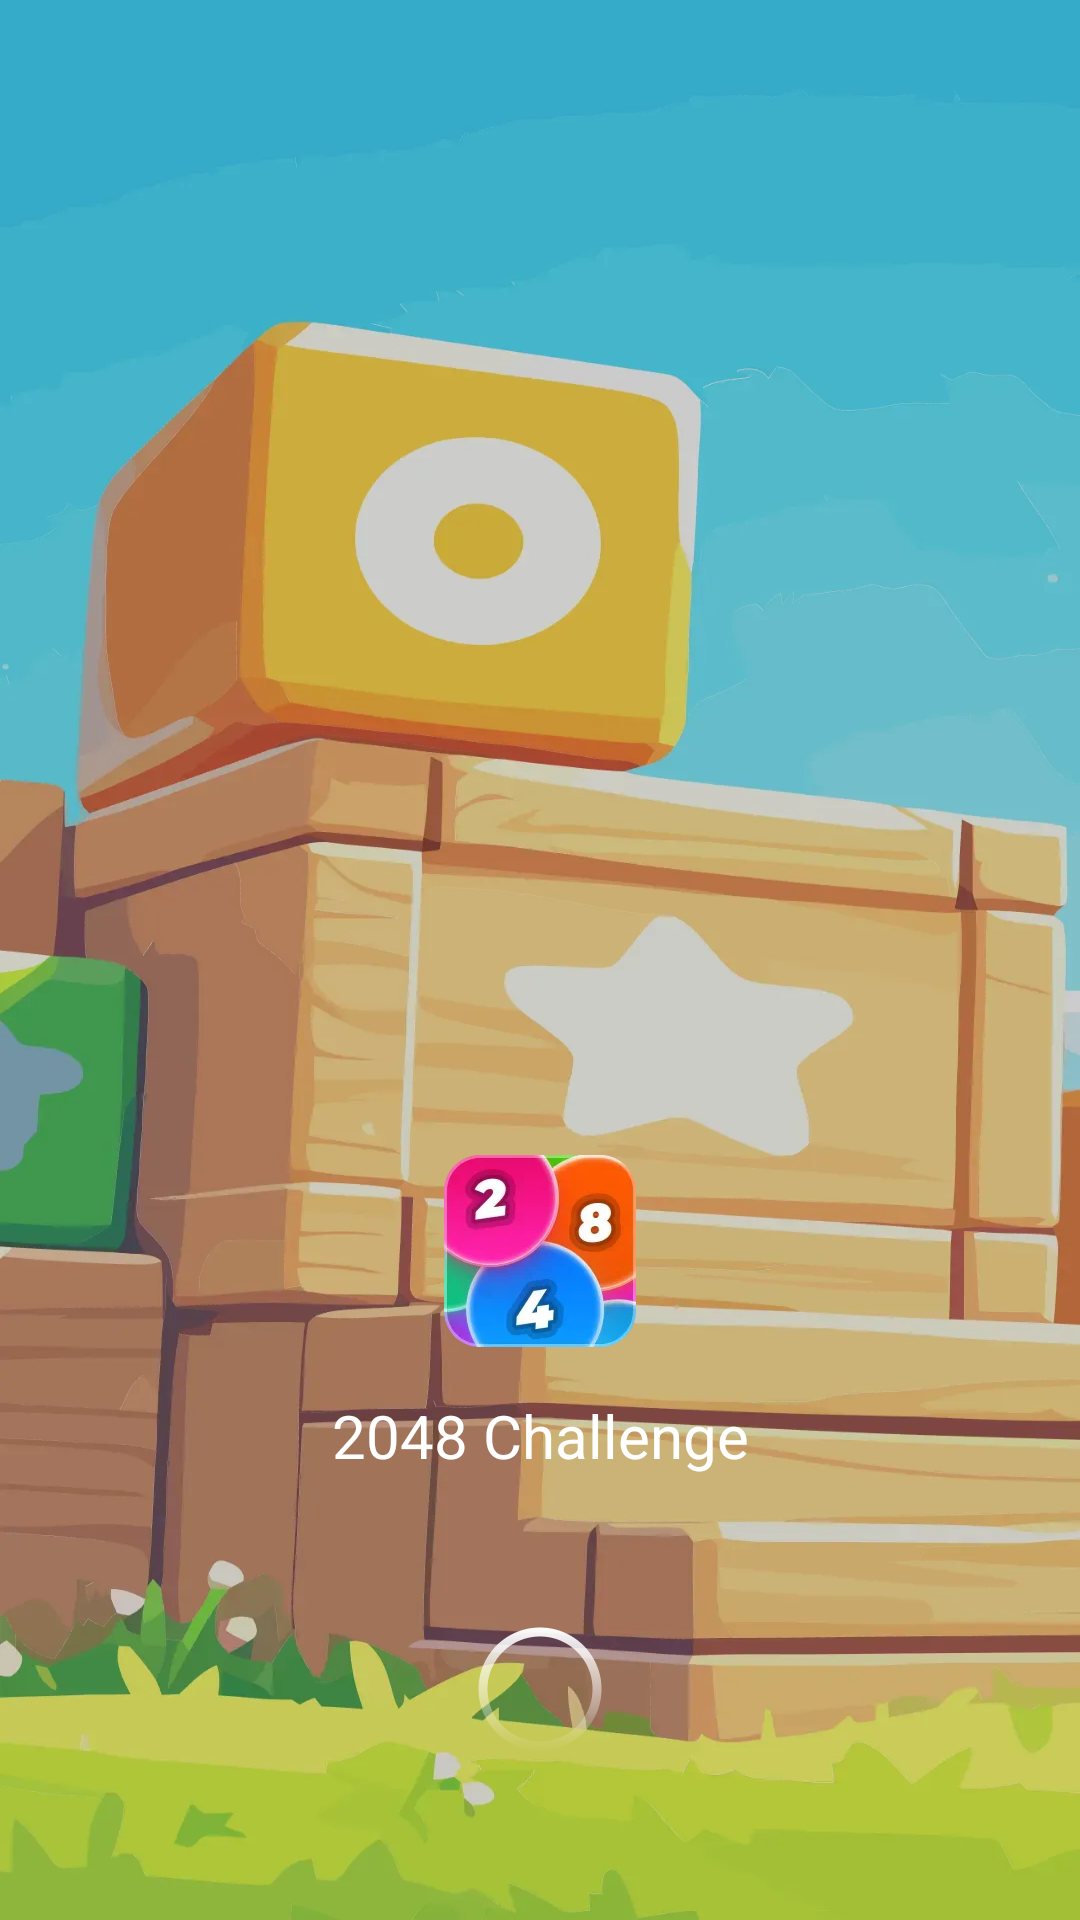

Icon click points for this 1080×1920 phone screenshot, format (x=x, y=y):
loading: (x=540, y=1689)
